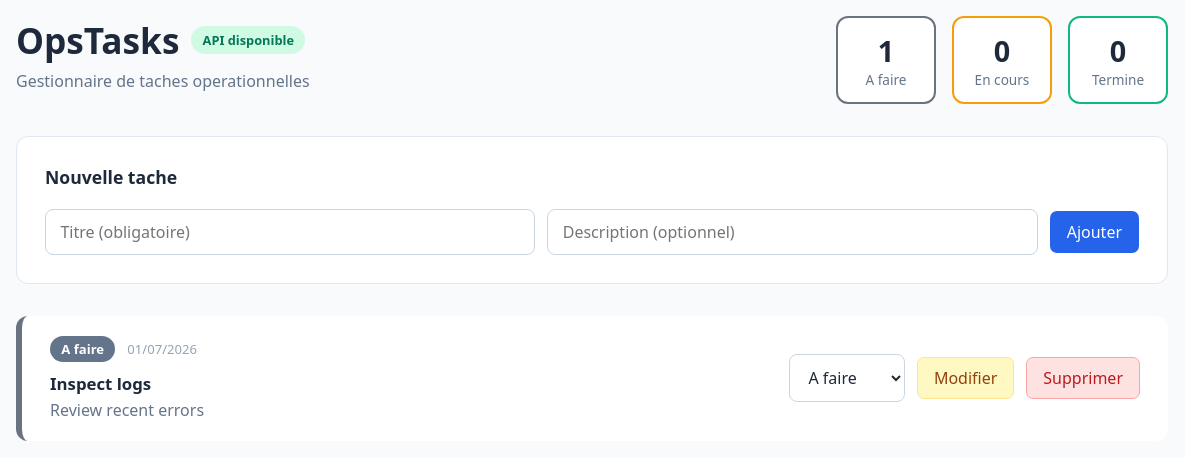
OpsTasks interface › deletes a confirmed task
This screenshot has width=1185, height=458.
Click the button "Supprimer" at (1083, 378), box [1026,358,1140,399]
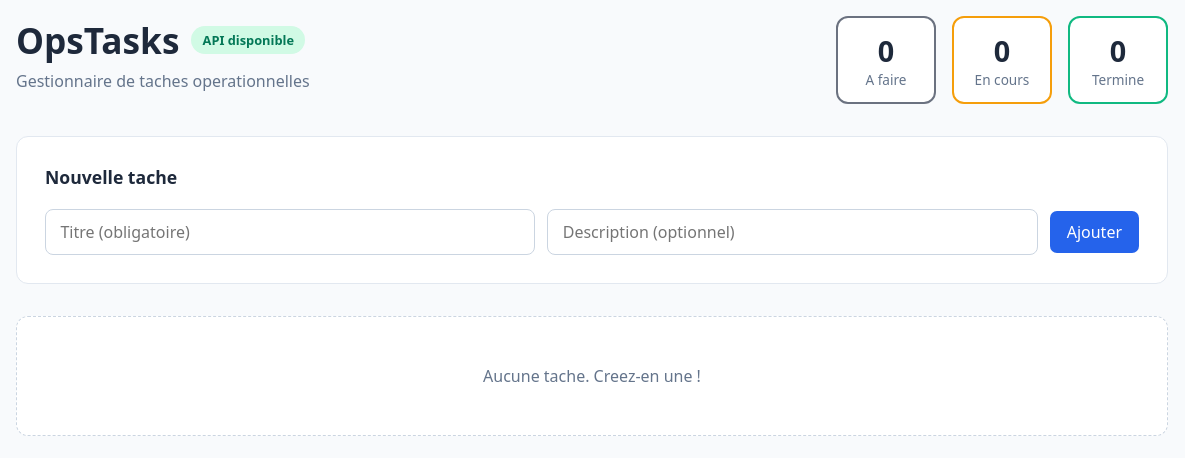
Result: the text "Aucune tache. Creez-en une !" is shown at [16,316,1168,436]
